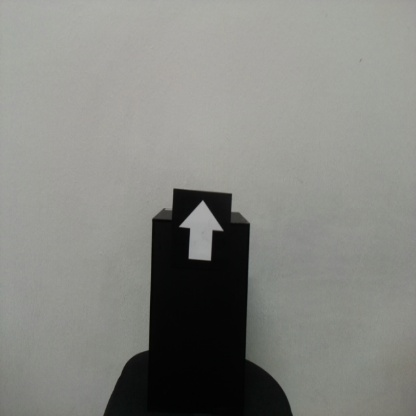id_1: (176, 193, 231, 271)
